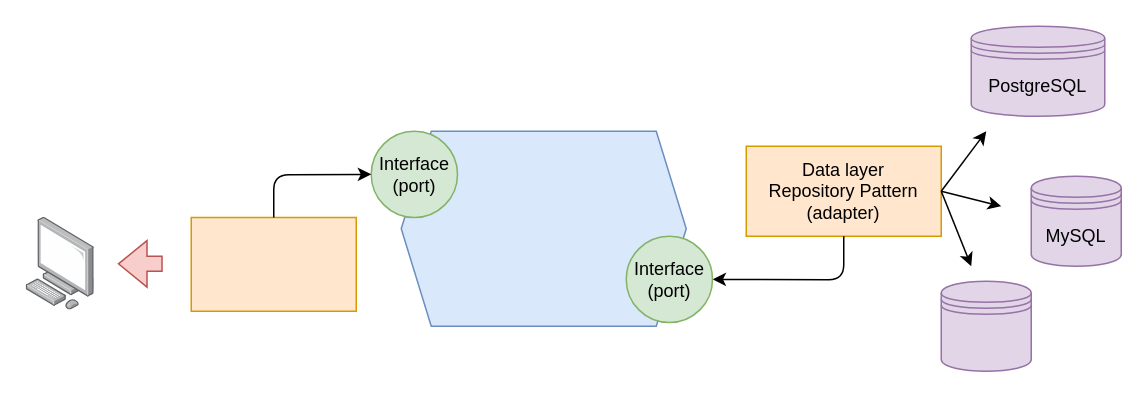
The diagram is 1148 pixels wide and 398 high, and some of its shapes have lost their labels. Each missing label, with the box of its shape:
Core business logic package: (400, 130, 686, 326)
Interface layer API (adapter): (190, 216, 356, 311)
MongoDB: (940, 280, 1031, 371)
